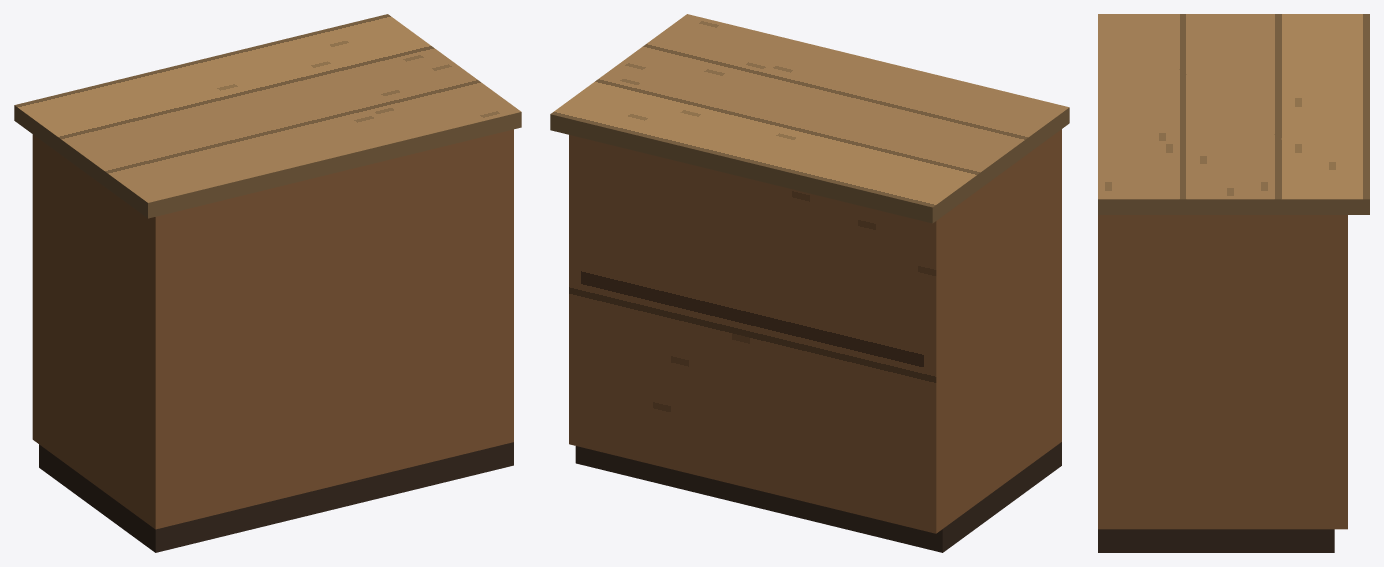
File: f_counter.glb
3 renders of one model, left to right at view 1: azimuth 30°, elevation 25°; view 2: azimuth 150°, elevation 25°; view 3: azimuth 270°, elevation 25°, orthographic. The views are drawn at different scales.
Visible parts, largest first — view 1: block_base, block_top, block_plinth; view 2: block_base, block_top, block_plinth; view 3: block_base, block_top, block_plinth.
Boxes of the visible parts, bbox=[...] form: block_base: bbox=[32, 129, 513, 529]; block_top: bbox=[14, 14, 521, 218]; block_plinth: bbox=[39, 442, 513, 552]; block_base: bbox=[569, 129, 1061, 533]; block_top: bbox=[550, 14, 1069, 223]; block_plinth: bbox=[575, 442, 1061, 552]; block_base: bbox=[1098, 215, 1347, 529]; block_top: bbox=[1098, 14, 1369, 214]; block_plinth: bbox=[1098, 529, 1334, 552].
Bounding box in the file's own units: 1 × 0.9 × 0.62.
Materials: 1 (1 with a texture image).
